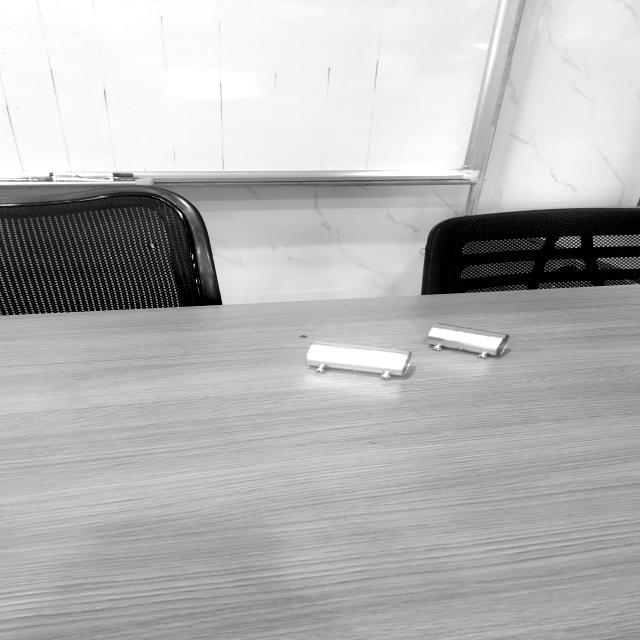Co_Lon: (305, 341, 412, 381)
Co_Nho: (425, 323, 509, 362)
